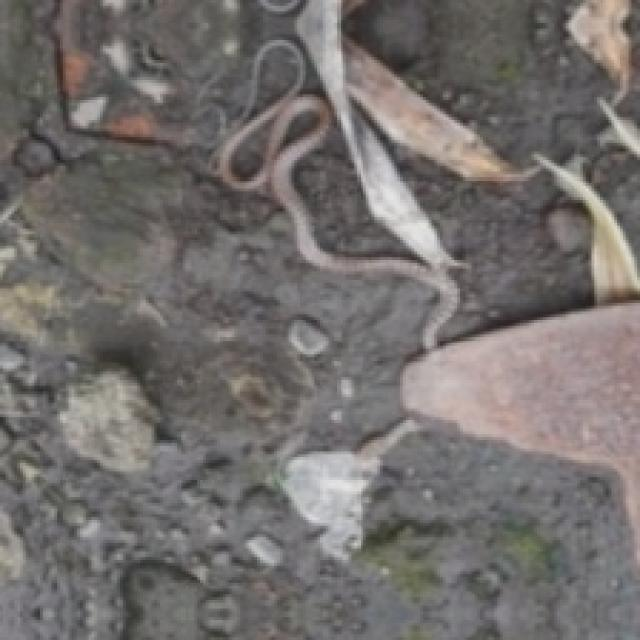paradise tree snake: (211, 42, 458, 348), (358, 421, 415, 463)
